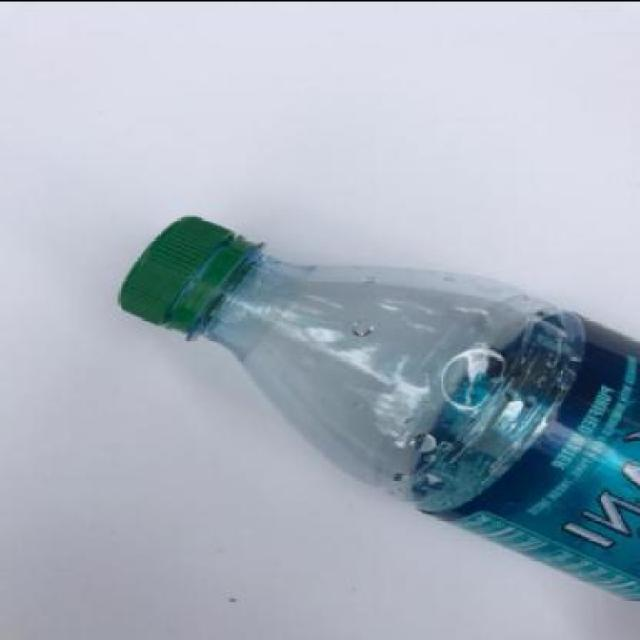PLASTIC: (119, 212, 638, 598), (115, 210, 262, 336)
